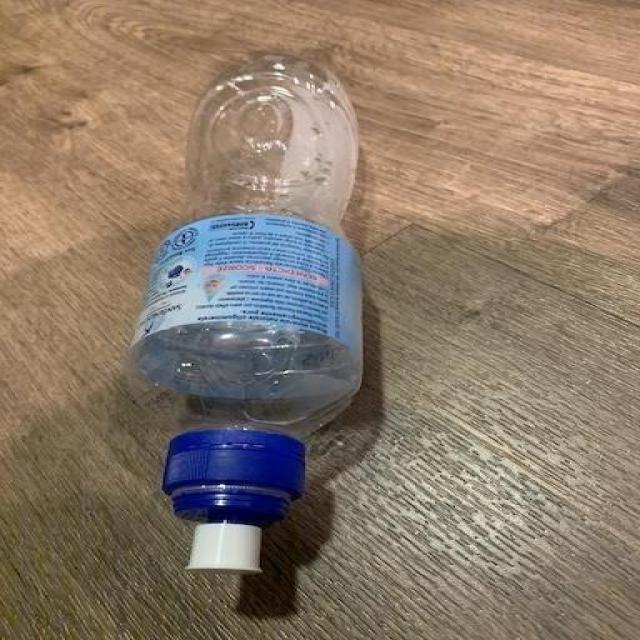plastic bottle: (118, 52, 370, 578)
